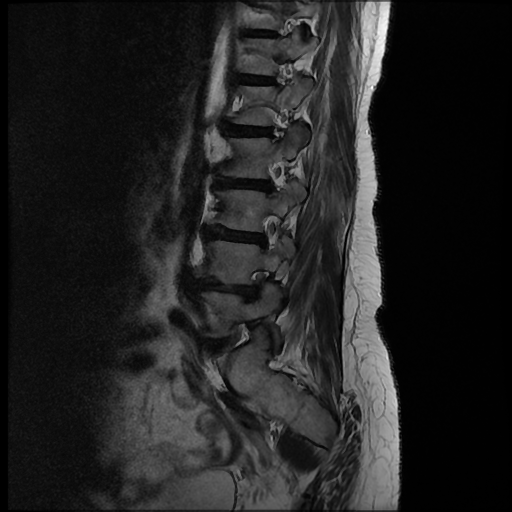RFS0: (246, 206, 293, 259), (252, 149, 299, 202)
